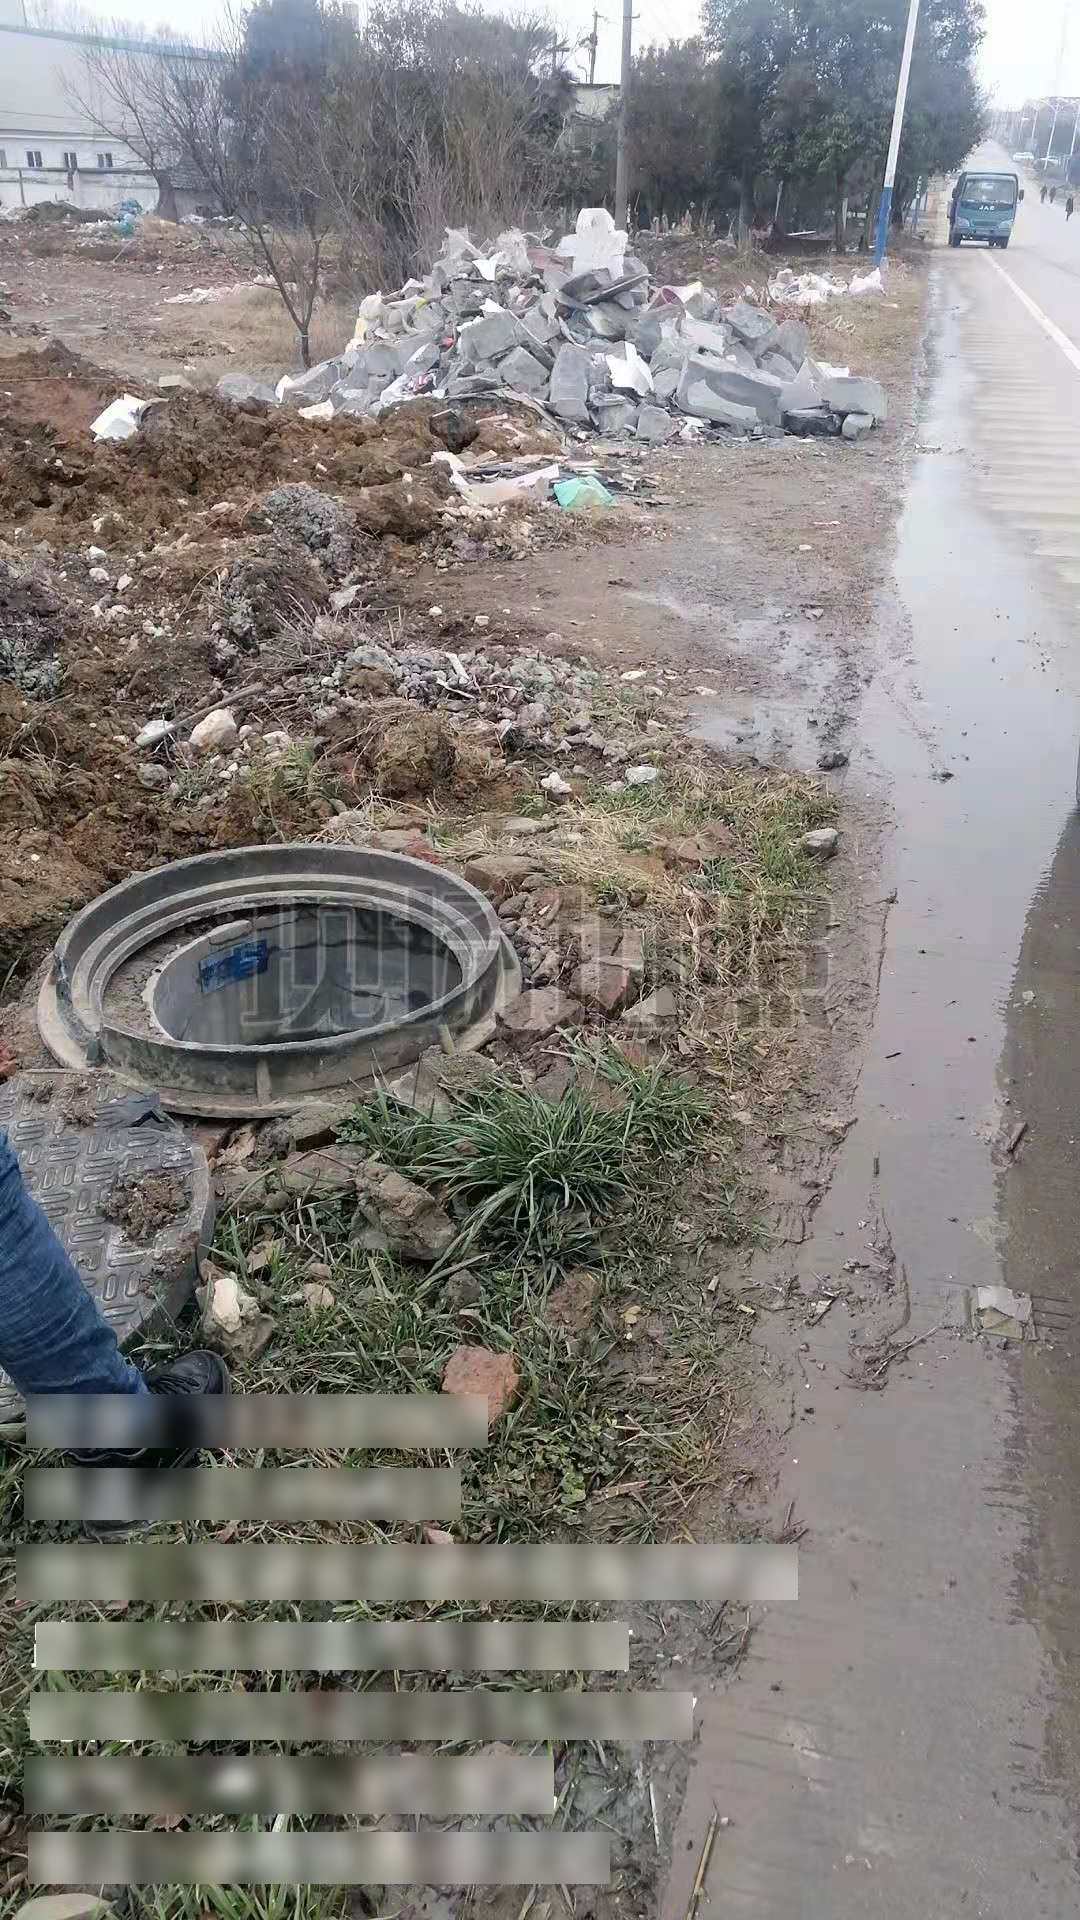lose: (38, 847, 524, 1106)
